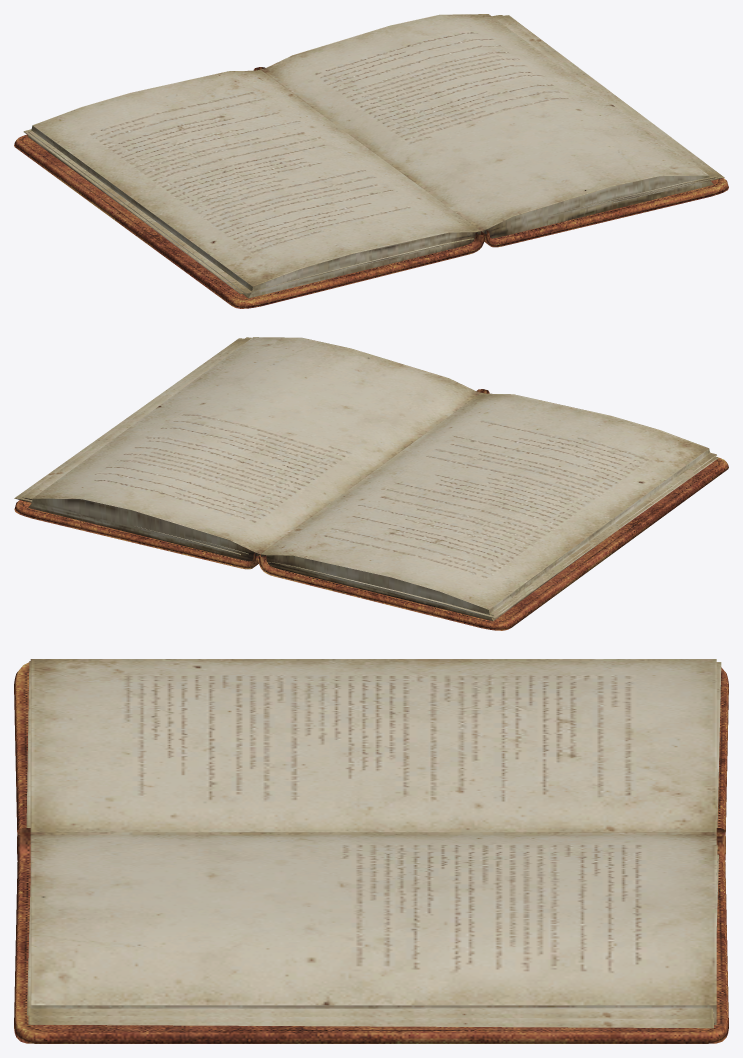
Rendered from sm74_003_diary01a.fbx.
3 renders of one model, top to bottom at view 1: azimuth 30°, elevation 25°; view 2: azimuth 150°, elevation 25°; view 3: azimuth 270°, elevation 25°, orthographic. The views are drawn at different scales.
Parts seen in each view (by area): view 1: LOD_1_Group_0_Sub_1__sm74_003_Diary01A_A_Mat__Env_default; view 2: LOD_1_Group_0_Sub_1__sm74_003_Diary01A_A_Mat__Env_default; view 3: LOD_1_Group_0_Sub_1__sm74_003_Diary01A_A_Mat__Env_default.
Part boxes in pixels (x1,y1,x2,y2): LOD_1_Group_0_Sub_1__sm74_003_Diary01A_A_Mat__Env_default: (14,14,728,308); LOD_1_Group_0_Sub_1__sm74_003_Diary01A_A_Mat__Env_default: (14,337,728,630); LOD_1_Group_0_Sub_1__sm74_003_Diary01A_A_Mat__Env_default: (14,659,728,1043).
Bounding box in the file's own units: 0.3747 × 0.0223 × 0.3005.
